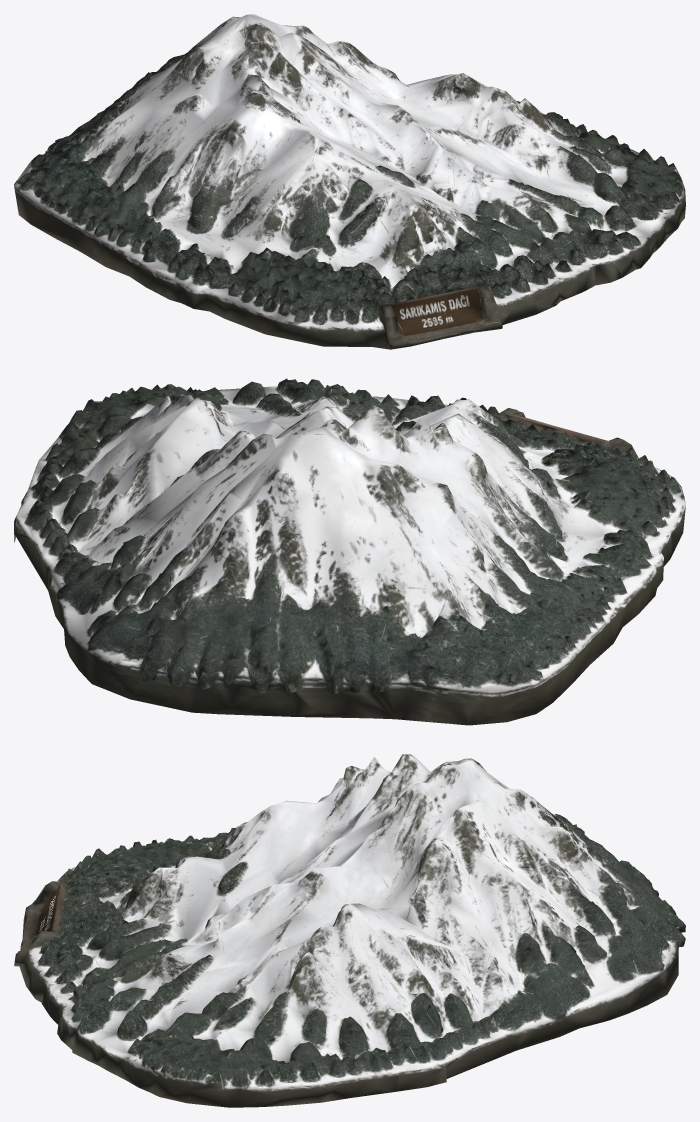
Rendered from city_kars_sarikamis_mountain.glb.
The picture shows the model from 3 angles, top to bottom: view 1: azimuth 30°, elevation 25°; view 2: azimuth 150°, elevation 25°; view 3: azimuth 270°, elevation 25°; orthographic projection. The views are drawn at different scales.
Parts seen in each view (by area): view 1: Mesh1.0; view 2: Mesh1.0; view 3: Mesh1.0.
Boxes of the visible parts, left/top/right/bottom form: Mesh1.0: left=14, top=14, right=685, bottom=349; Mesh1.0: left=14, top=378, right=685, bottom=725; Mesh1.0: left=14, top=754, right=685, bottom=1107.
Bounding box in the file's own units: 109 × 34 × 113.
Materials: 1 (1 with a texture image).
